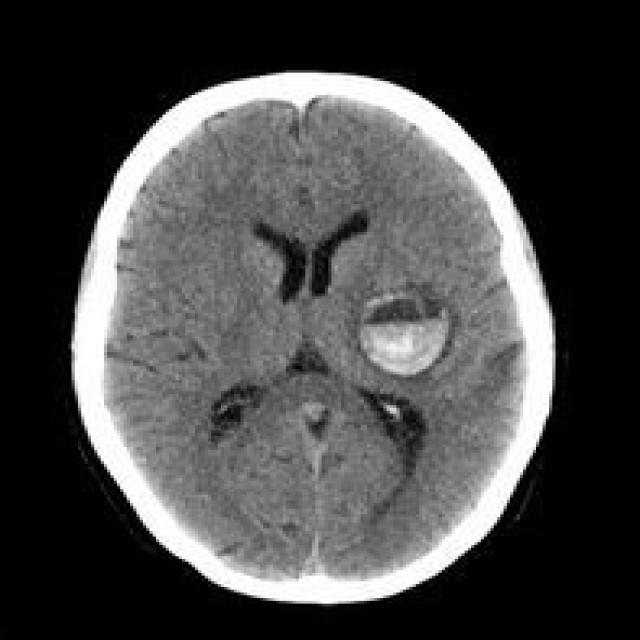Tumor-Cell: (358, 280, 469, 395)
